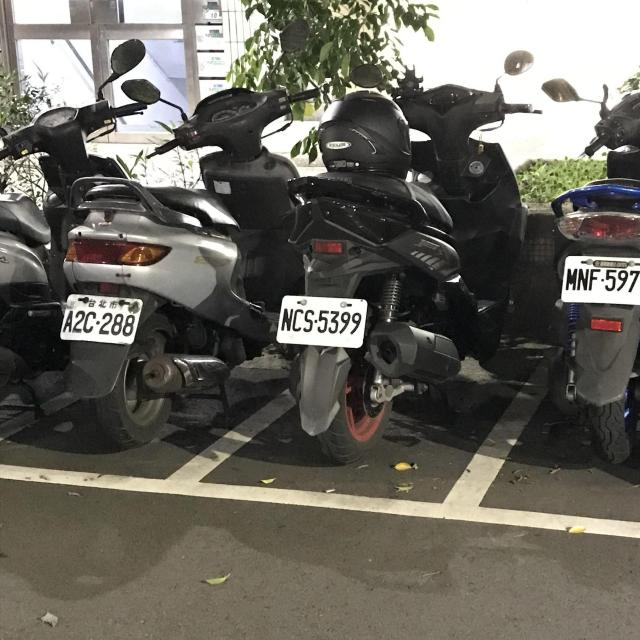W: (274, 291, 371, 350), (58, 290, 144, 346), (558, 252, 640, 310)
